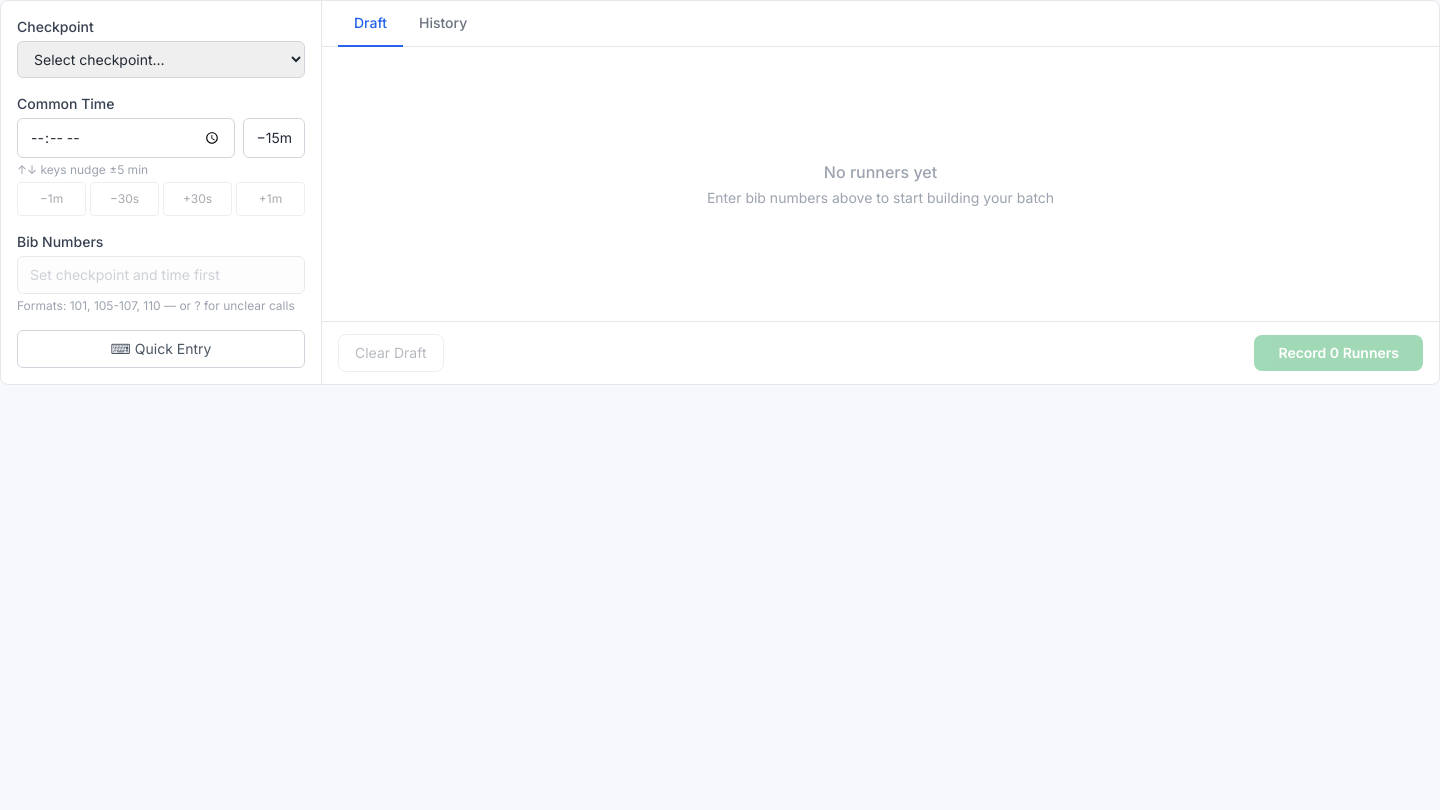
Scenario: BatchEntryLayout › shows DNS warning modal when a DNS runner is in the batch
Select "CP1 — Start" in the dropdown labelled "Checkpoint" at [161, 60], box [17, 41, 305, 78]
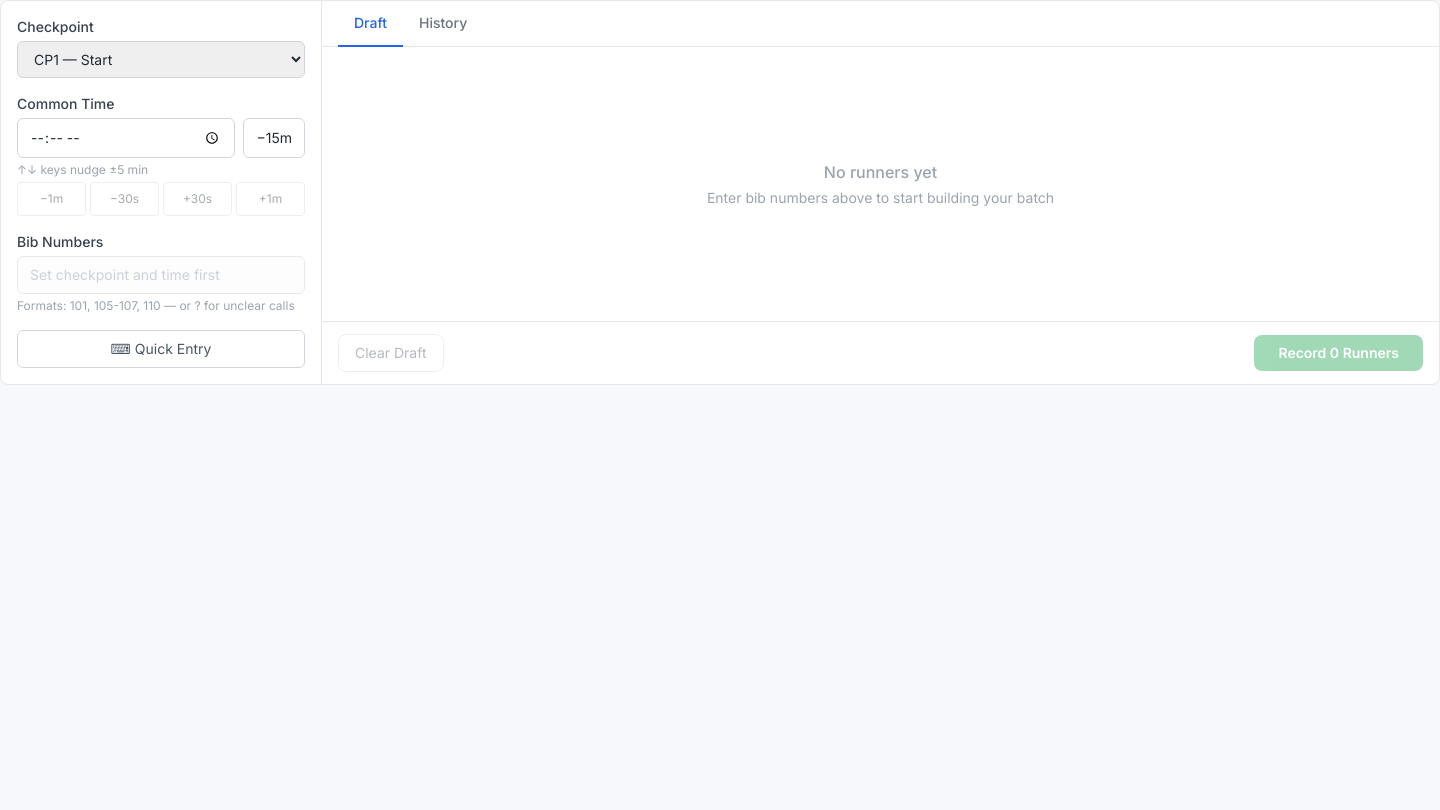
Type "10:00" into the time field labelled "Common Time" at [126, 138], box [17, 118, 236, 158]
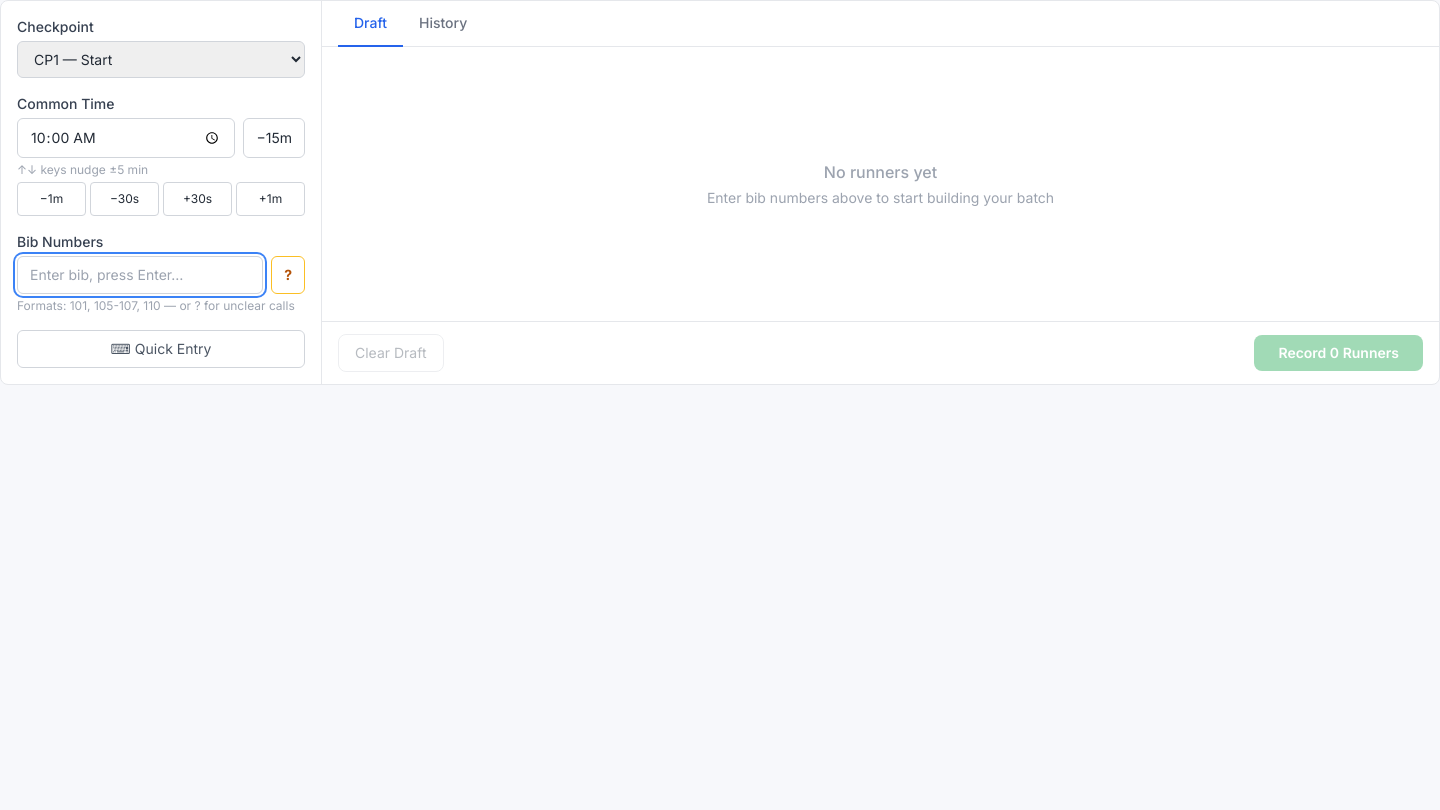
Type "42" into the field labelled "Bib Numbers" at [140, 275], box [17, 256, 263, 294]
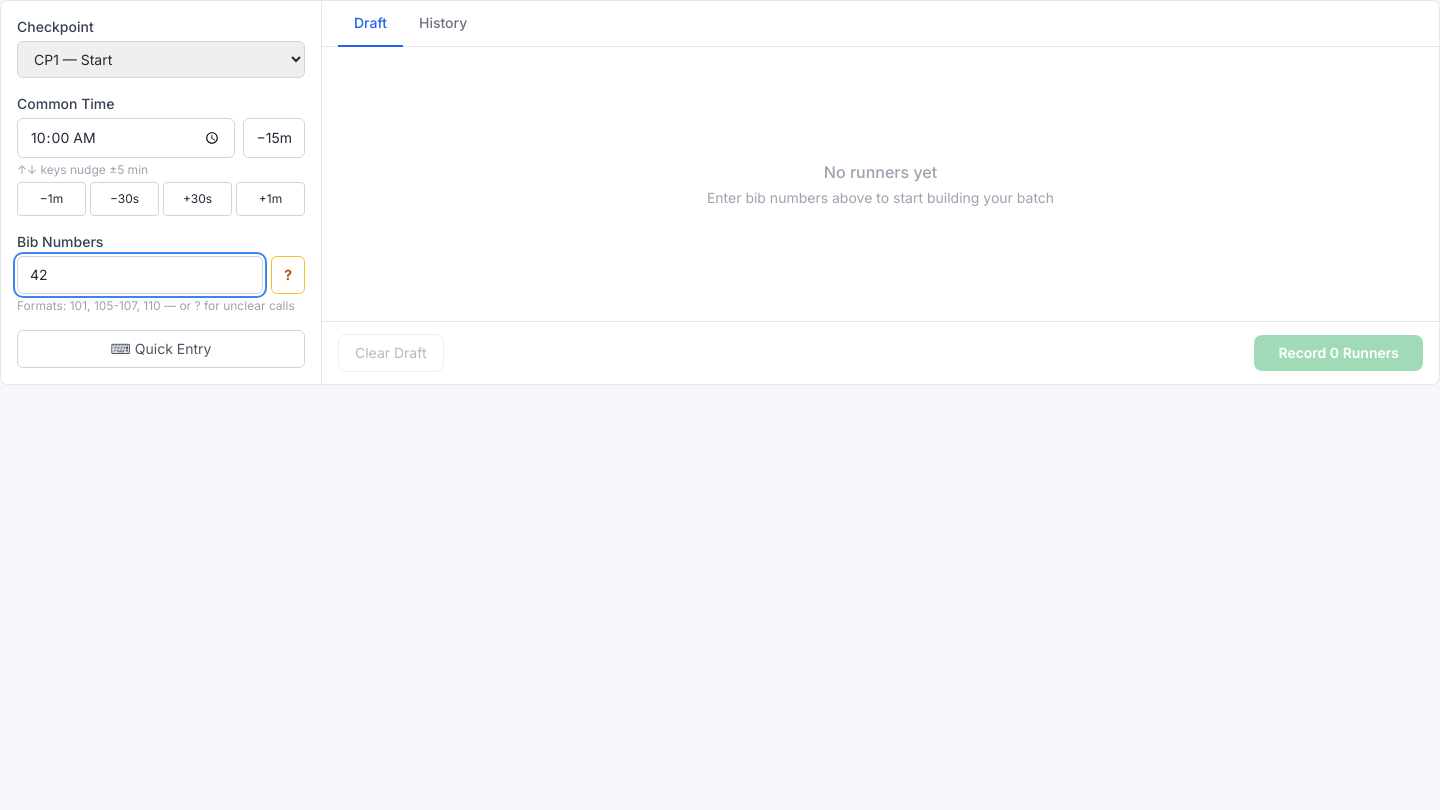
Press Enter in the field labelled "Bib Numbers", box [17, 256, 263, 294]
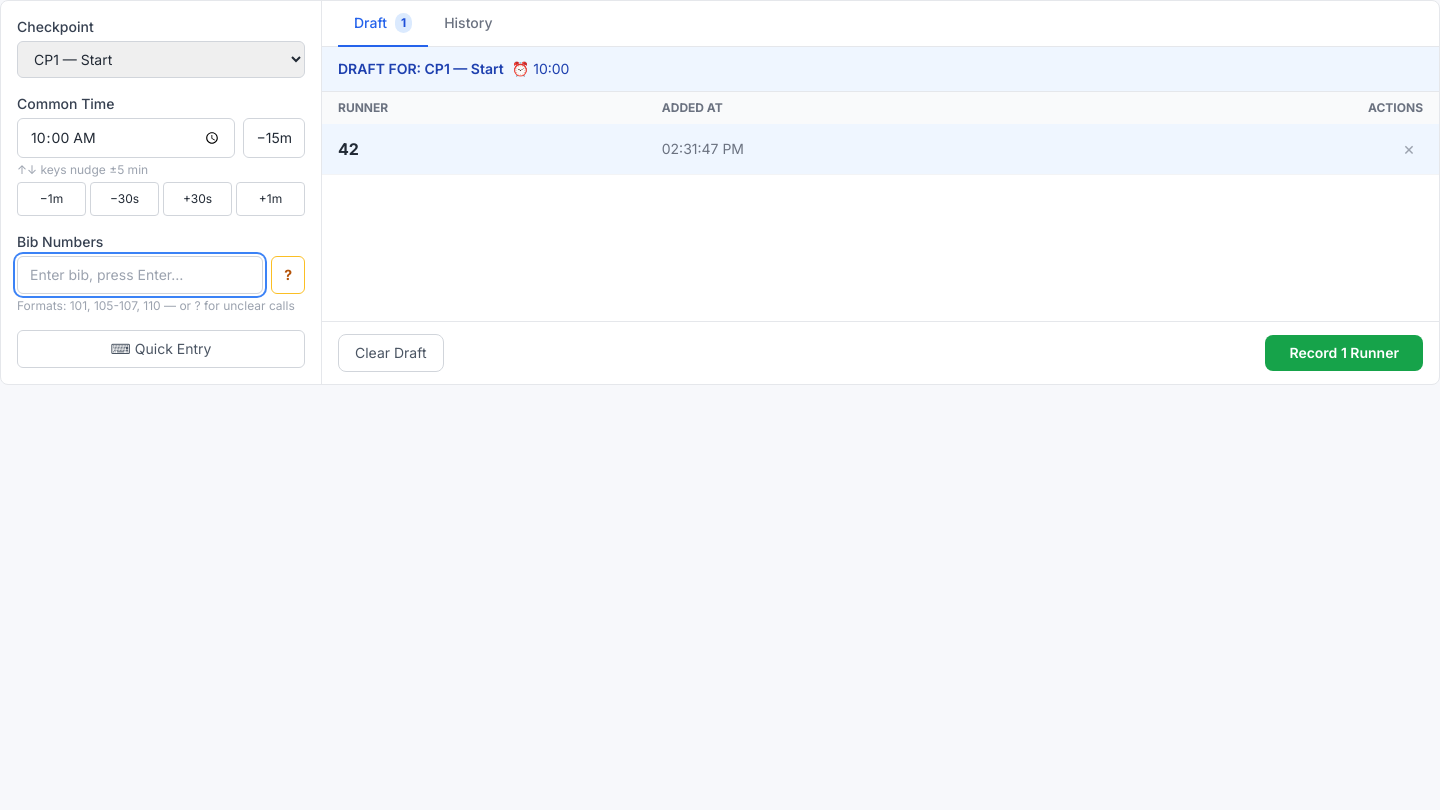
Click the button "Record 1 Runner" at [1344, 353], box [1266, 335, 1423, 371]
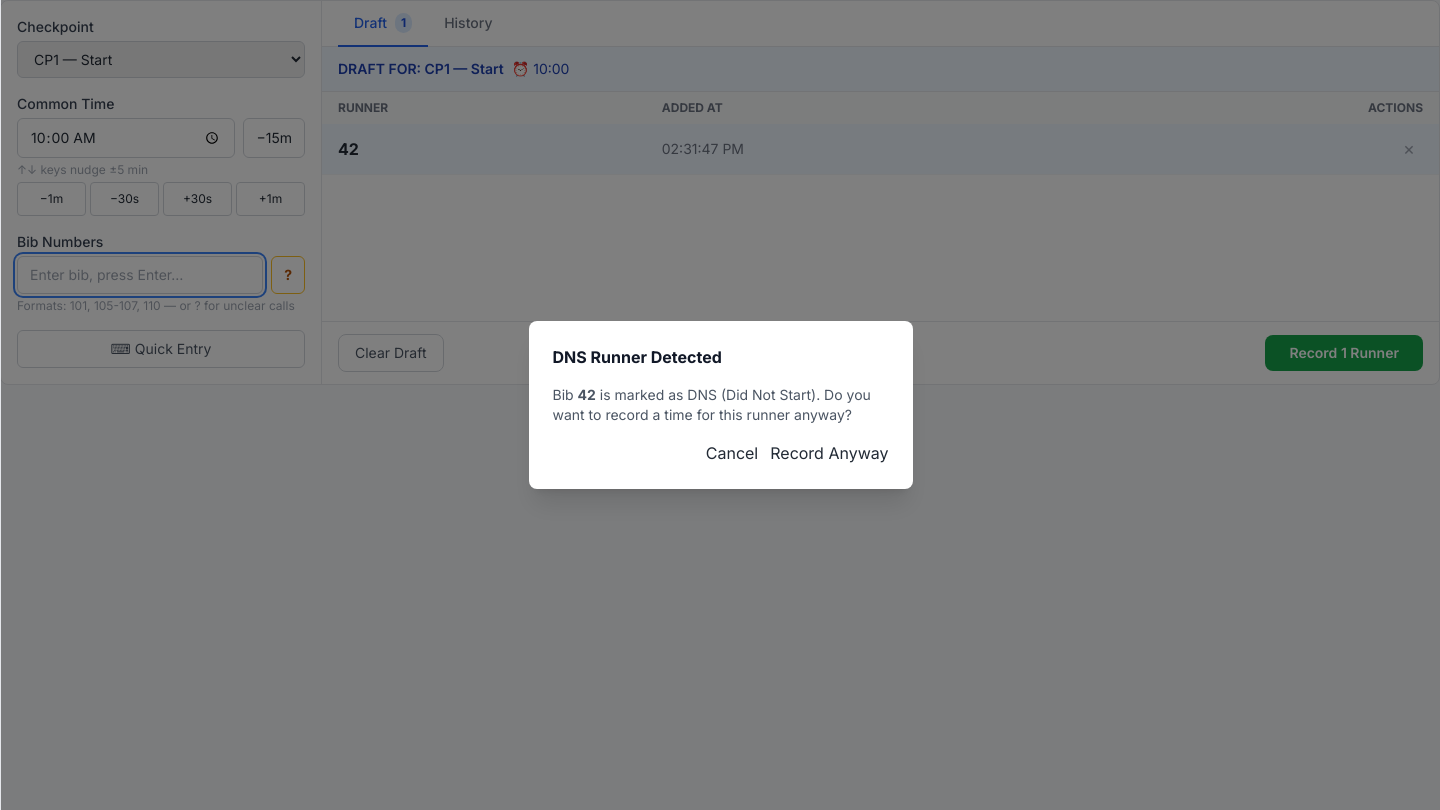
Expected: the heading "DNS Runner Detected" is shown, [552, 347, 722, 367]
